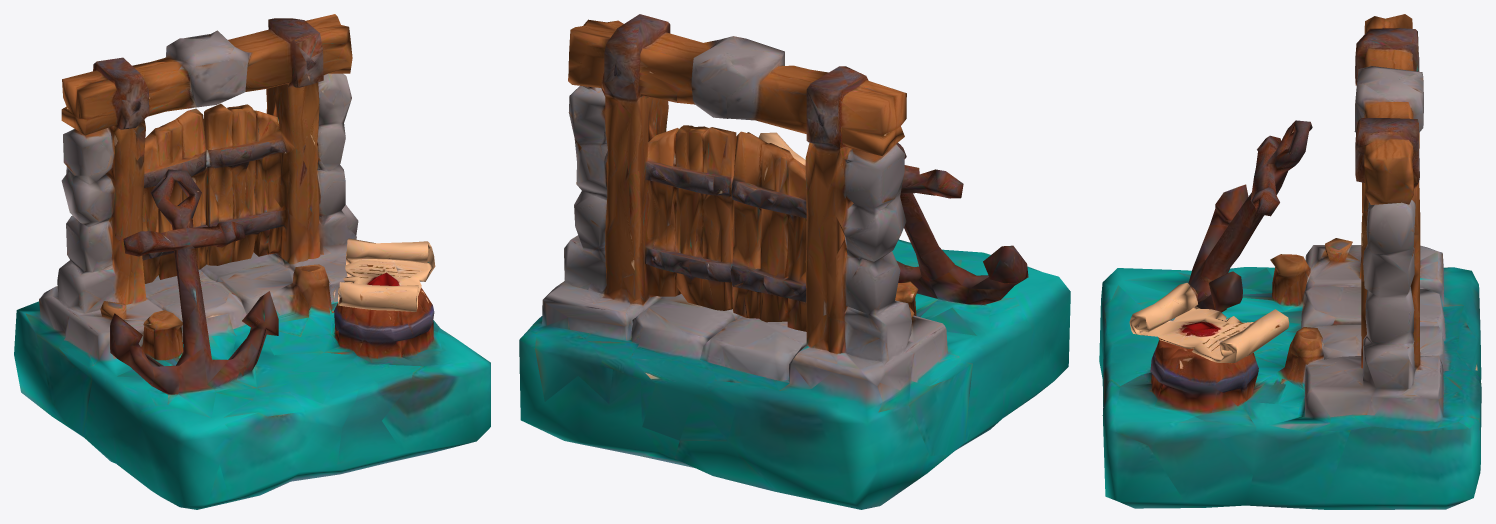
Rendered from m_port_animated.glb.
3 views of the same model, side by side, from view 1: azimuth 30°, elevation 25°; view 2: azimuth 150°, elevation 25°; view 3: azimuth 270°, elevation 25° (orthographic). The views are drawn at different scales.
Visible parts, largest first — view 1: m_port_Living_Scenery; view 2: m_port_Living_Scenery; view 3: m_port_Living_Scenery.
Part boxes in pixels (<box>): m_port_Living_Scenery: <box>14,14,490,509</box>; m_port_Living_Scenery: <box>519,14,1070,509</box>; m_port_Living_Scenery: <box>1099,14,1481,509</box>.
Size of the model in its own units: 1 by 0.9723 by 0.9459.
Materials: 1 (1 with a texture image).
